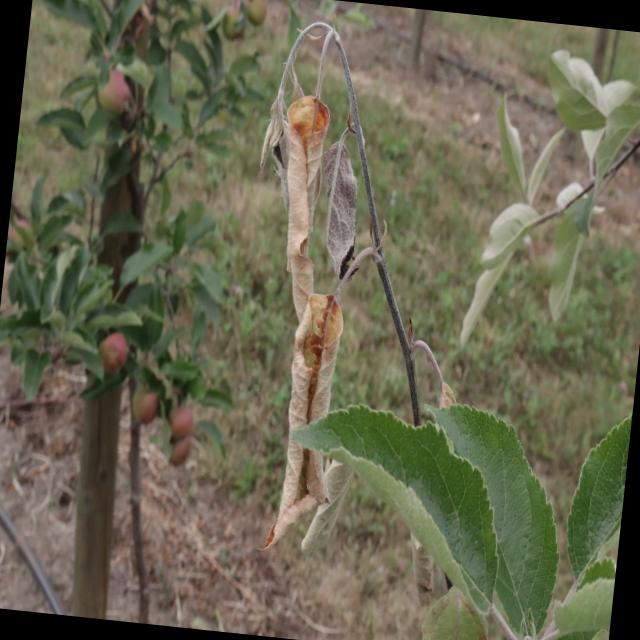-FireBlight-: (219, 8, 379, 546)
